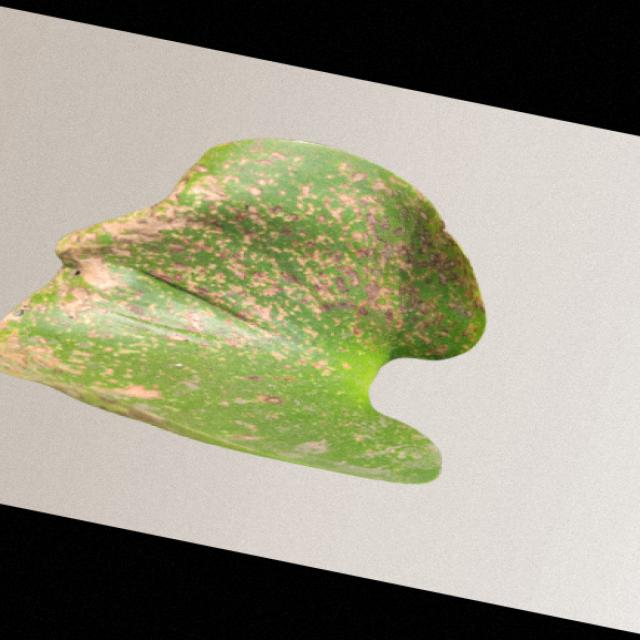daun berpenyakit bercak: (3, 139, 485, 483)
